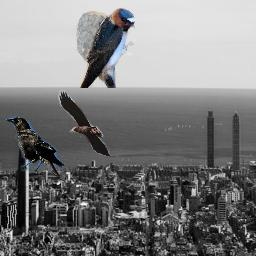Crow: (3, 116, 65, 179), (58, 90, 111, 158)
Swallow: (76, 7, 135, 88)
